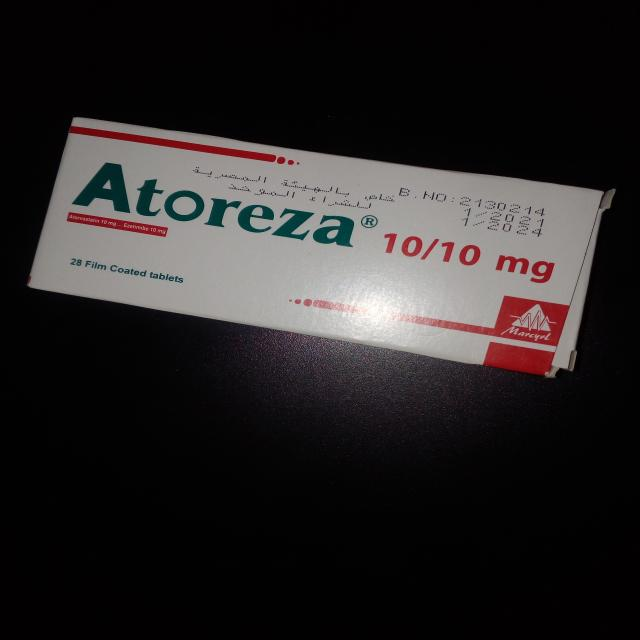Medicine: (26, 114, 610, 378)
